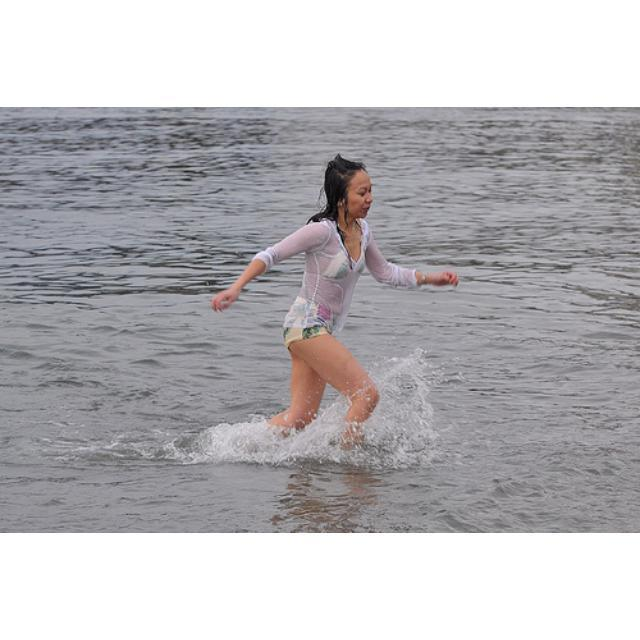human: (212, 153, 461, 452)
